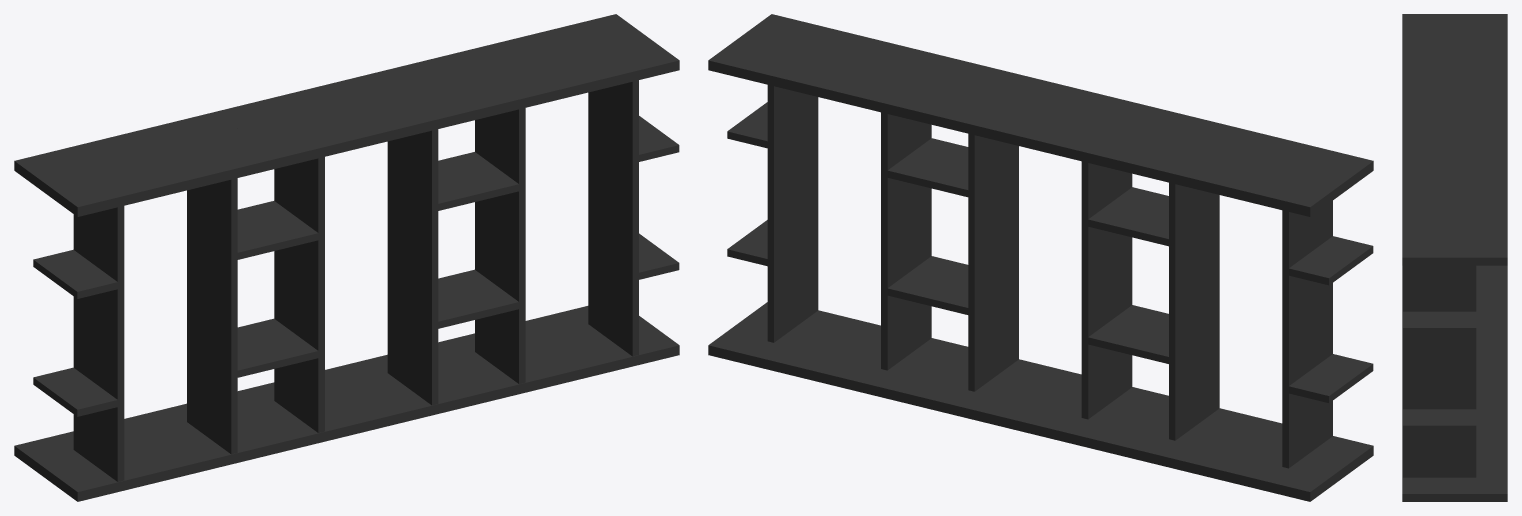
File: Prop_WallShelf_05.fbx
3 renders of one model, left to right at view 1: azimuth 30°, elevation 25°; view 2: azimuth 150°, elevation 25°; view 3: azimuth 270°, elevation 25°, orthographic. The views are drawn at different scales.
Visible parts, largest first — view 1: Prop_WallShelf_05; view 2: Prop_WallShelf_05; view 3: Prop_WallShelf_05.
Part boxes in pixels (x1,y1,x2,y2): Prop_WallShelf_05: (14, 14, 679, 501); Prop_WallShelf_05: (708, 14, 1373, 501); Prop_WallShelf_05: (1402, 14, 1507, 501).
Size of the model in its own units: 152 by 71.27 by 27.8.
